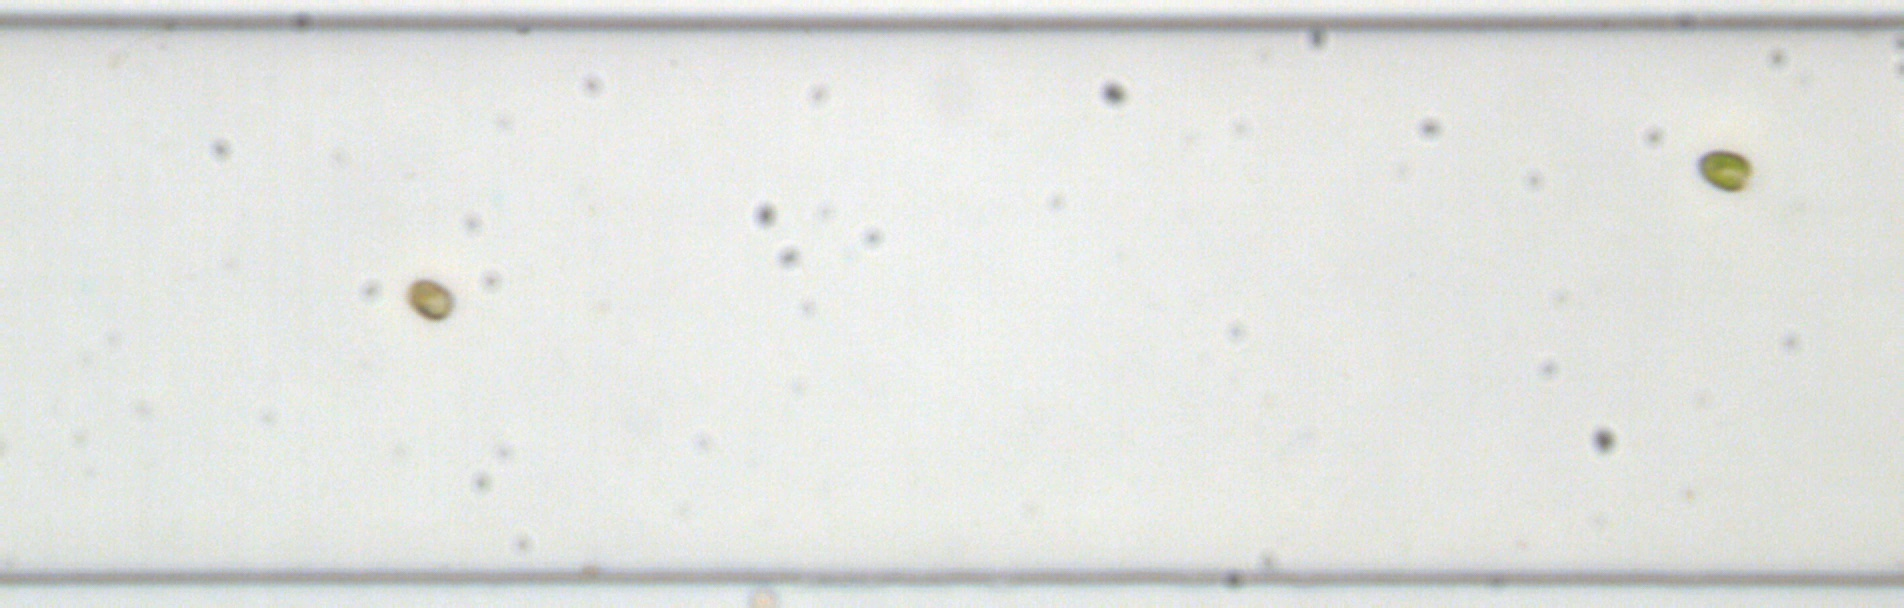Effrenium: (404, 274, 455, 326)
Platymonas: (1691, 147, 1753, 193)
